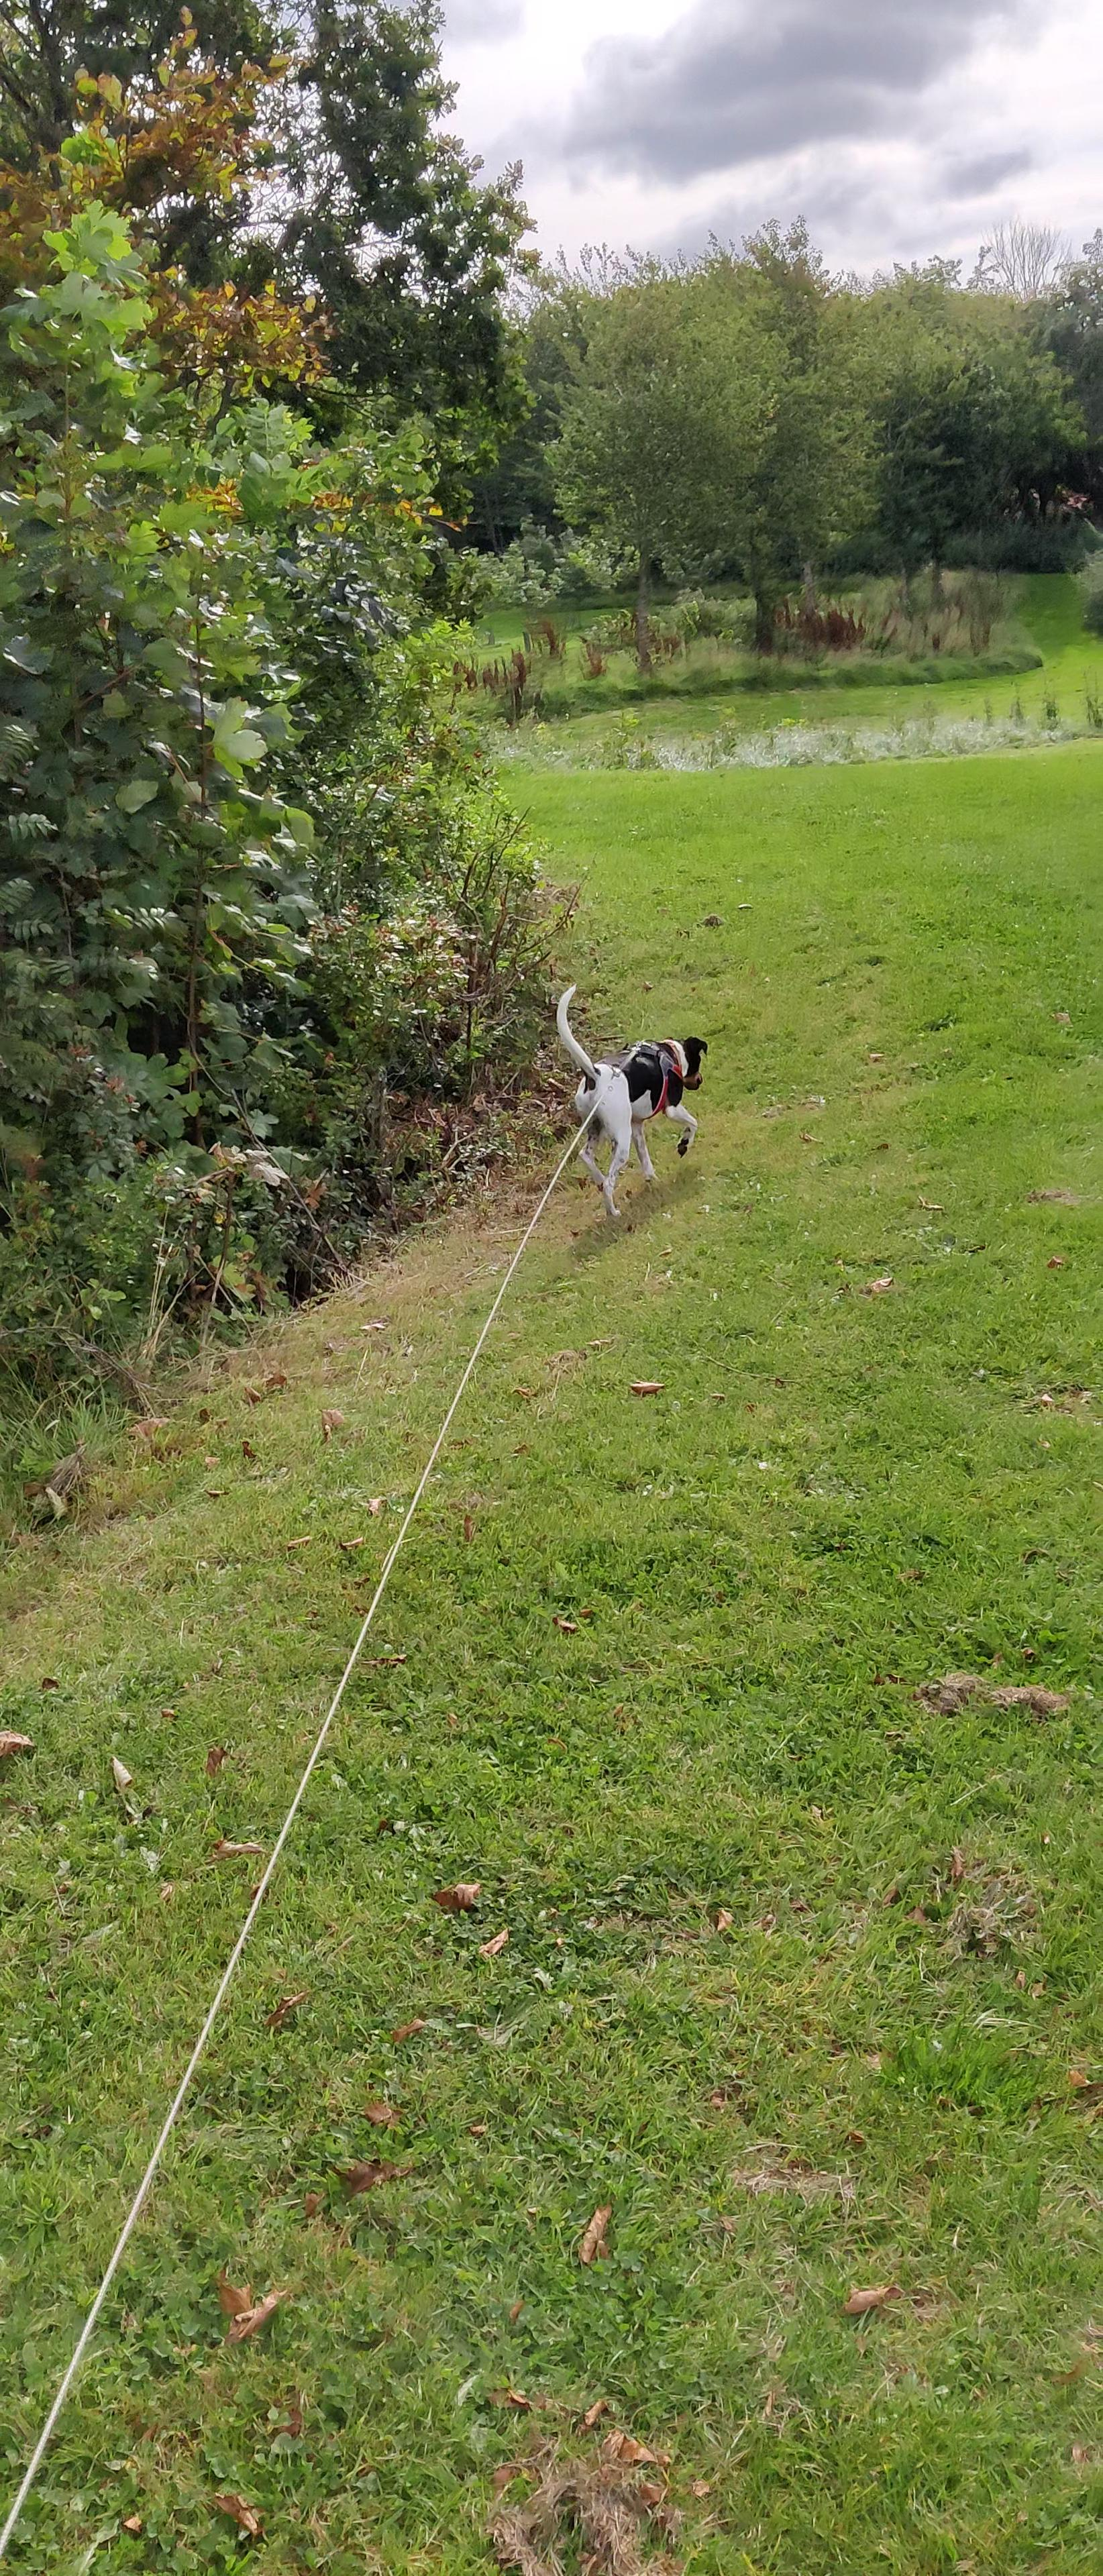Dog: (551, 982, 708, 1222)
